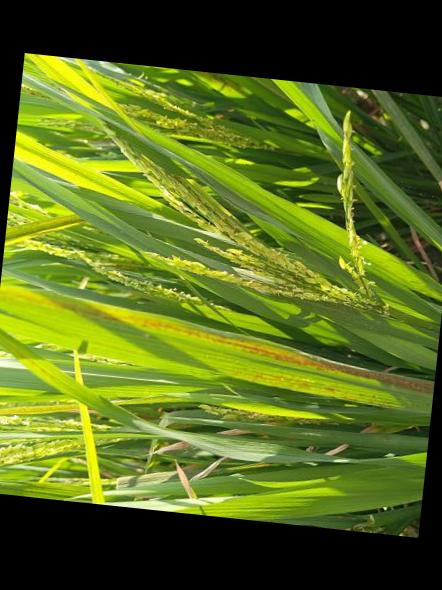Leaf Blight: (1, 284, 434, 396), (250, 369, 394, 406)
